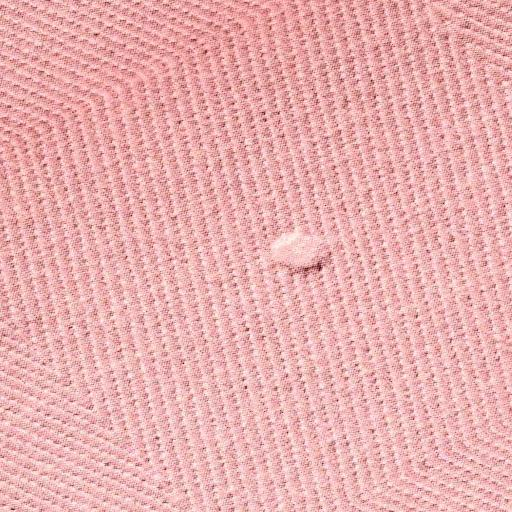knot: (267, 228, 337, 279)
